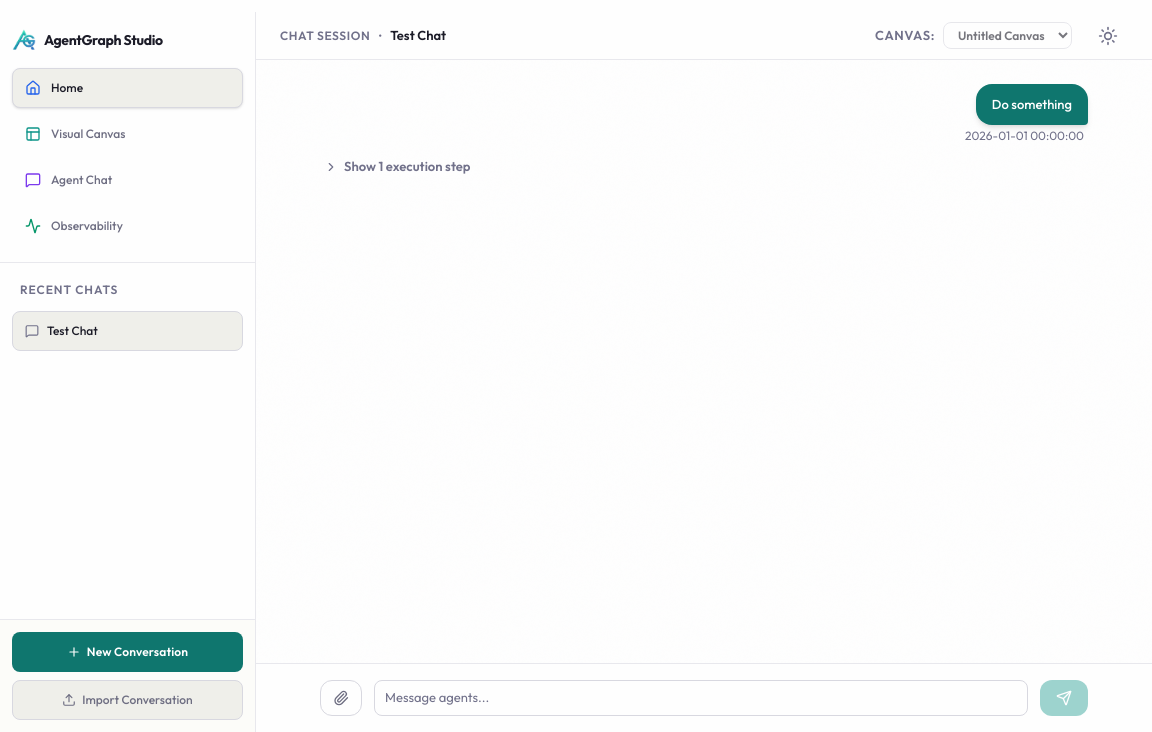
Test: ChatPage component › renders error message with alert styling when steps expanded
Expected: the text "Show 1 execution step" is shown, [344,157,470,177]
Click the button "Show 1 execution step": (397, 167) [320,157,474,177]
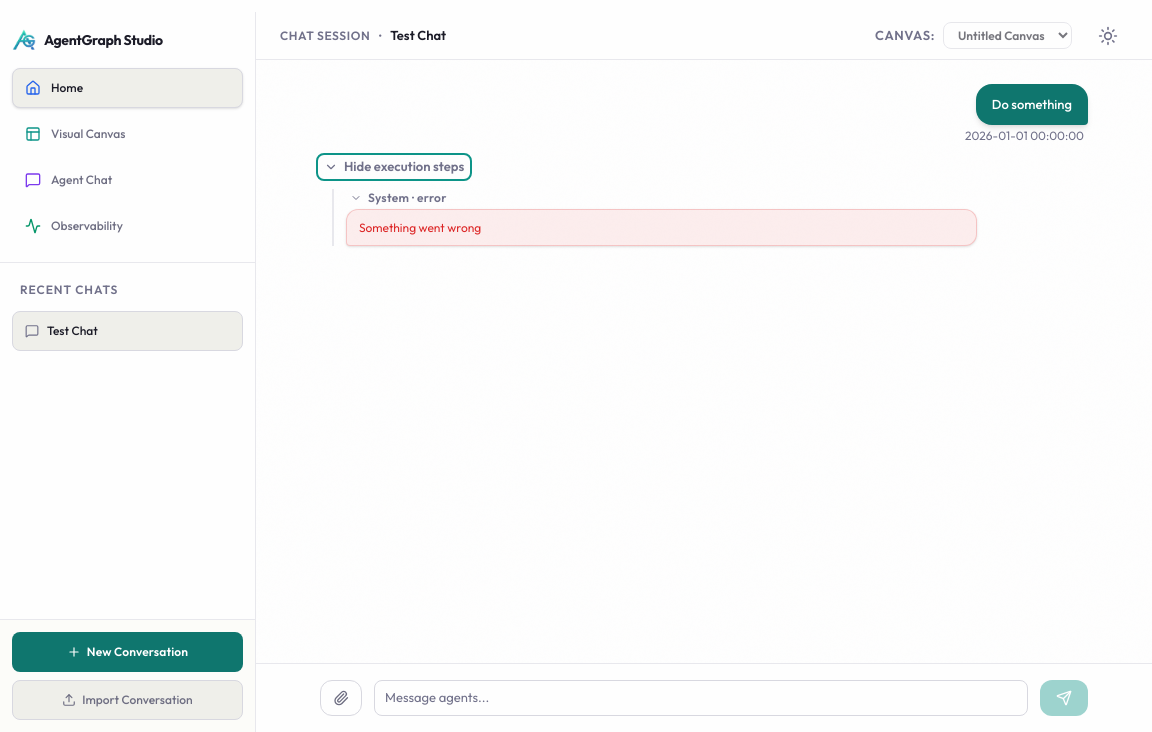
Expected: the text "Something went wrong" is shown, [359,220,481,235]
